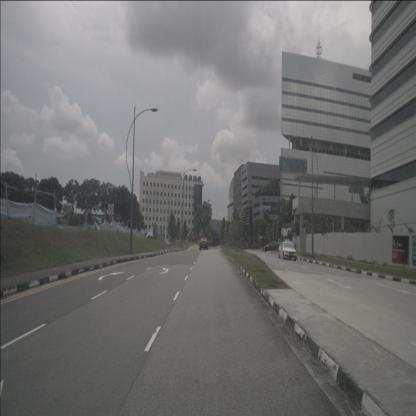cone: (263, 247, 266, 252), (261, 247, 264, 252), (260, 246, 262, 252)
